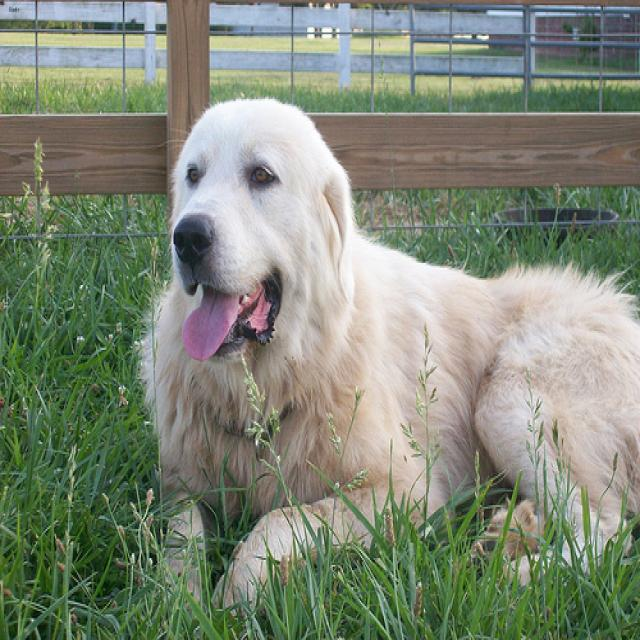dog-great_pyrenees: (132, 92, 637, 637)
